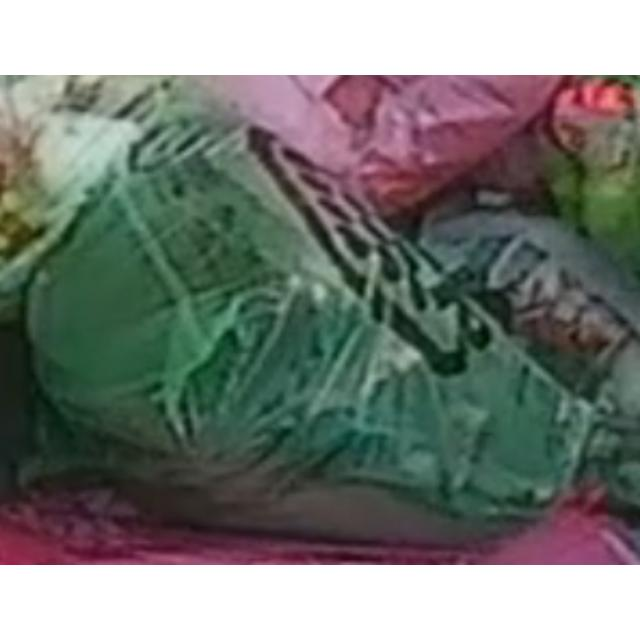general_trashbag: (0, 81, 596, 537)
